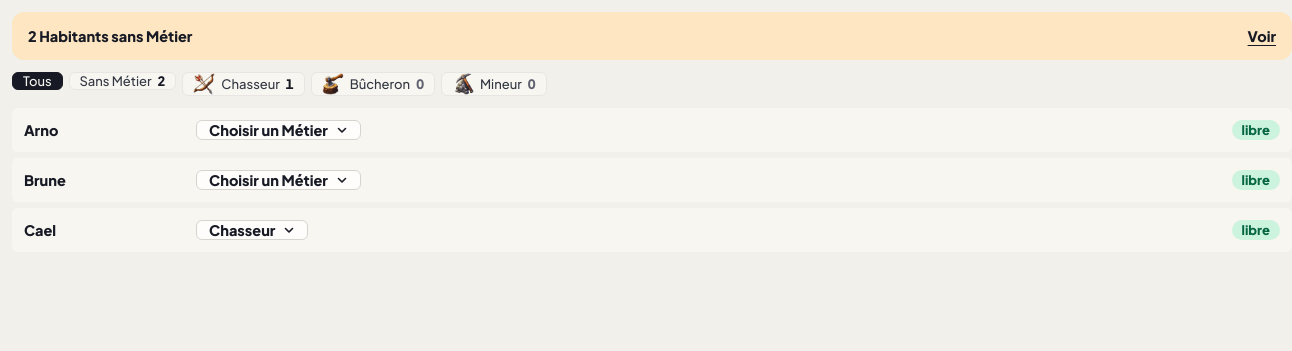
Test: le bandeau des Habitants sans Métier (US-0313) › baisse dès qu'un Métier est donné depuis la liste, sans attendre l'action, et disparaît à zéro sans recharger
Click the button "Choisir un Métier" next to "Arno".
click(278, 130)  # box [196,120,361,140]
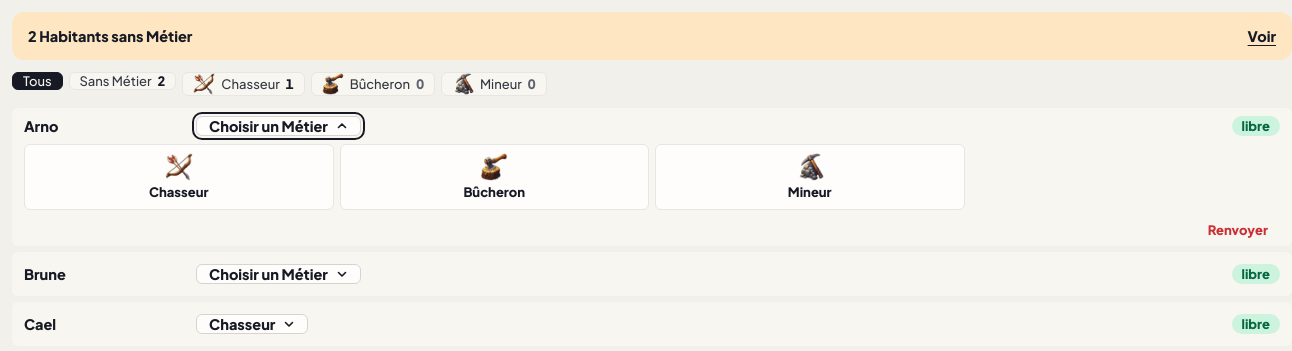
Click the button "Bûcheron".
click(494, 177)  # box [340,144,649,210]
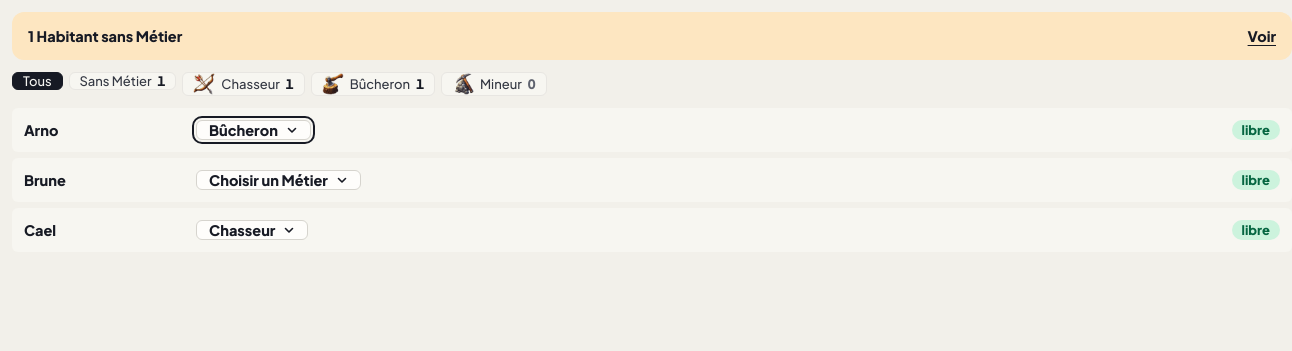
Click the button "Choisir un Métier".
click(278, 180)  # box [196,170,361,190]
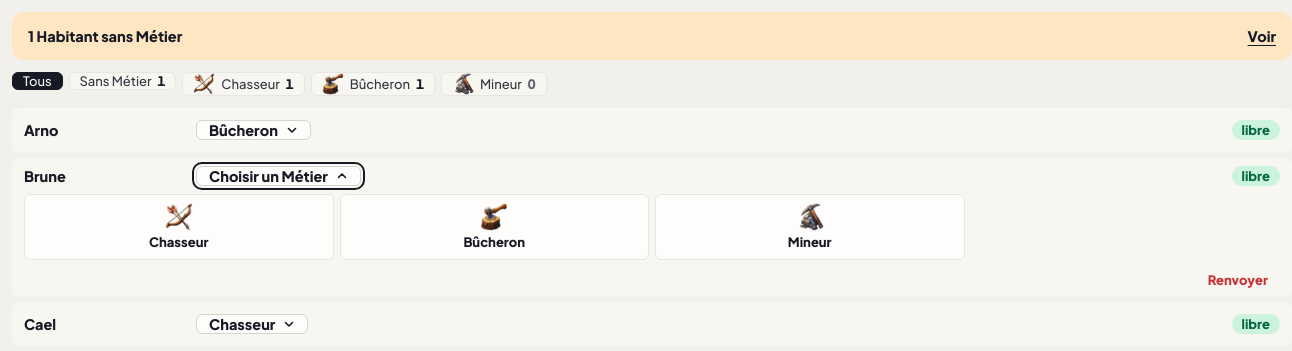
Click the button "Mineur".
click(810, 227)  # box [655,194,964,260]
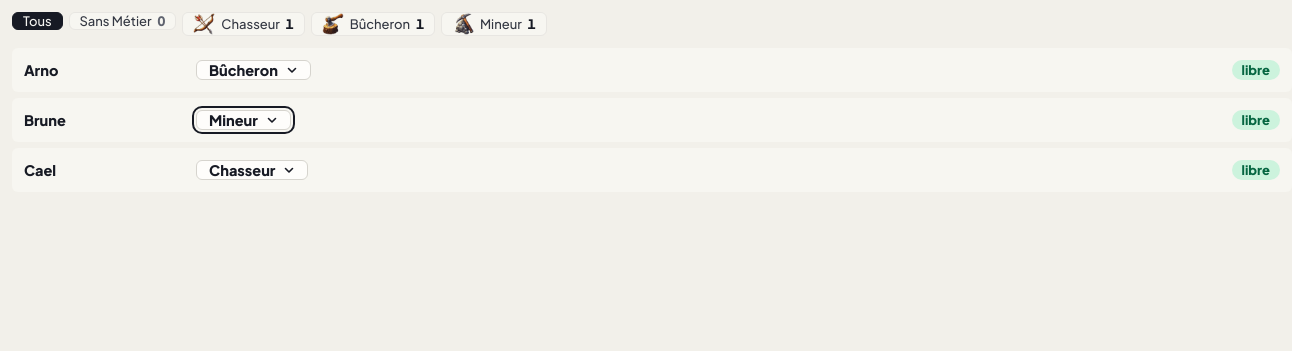
Expected: the link "Voir" is gone
